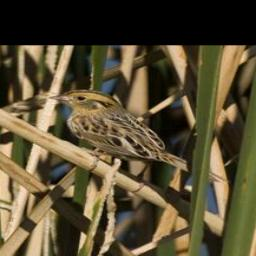Sparrow: (45, 88, 229, 185)
